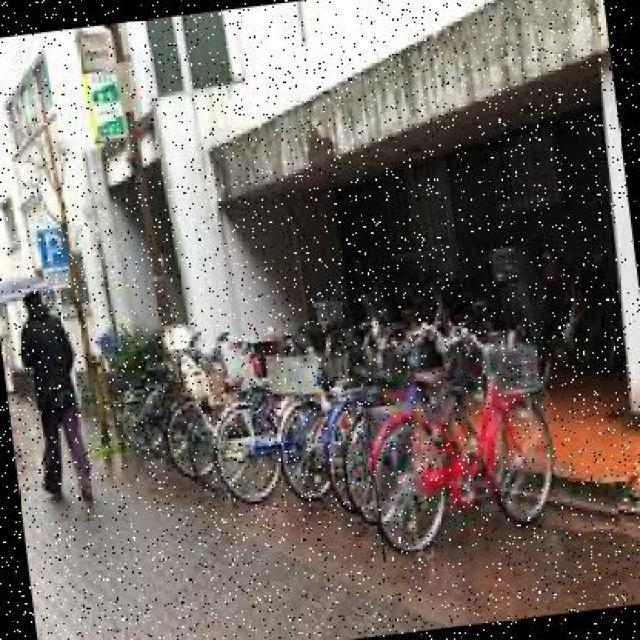bicycle: (359, 323, 625, 565)
